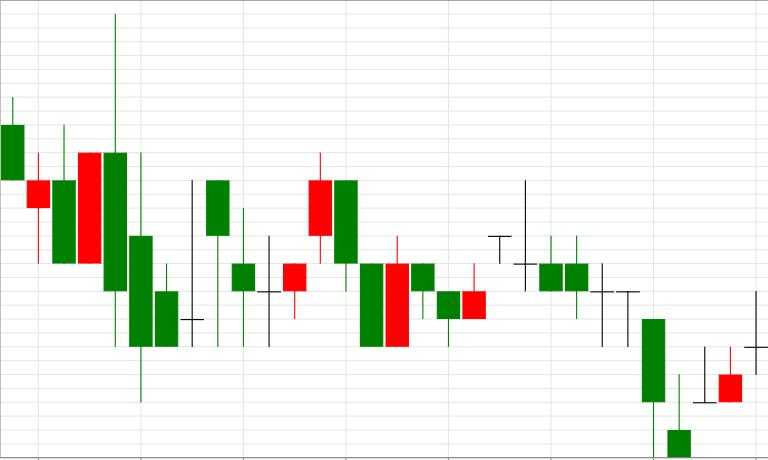inverse_hammer_rise: (514, 181, 692, 457)
